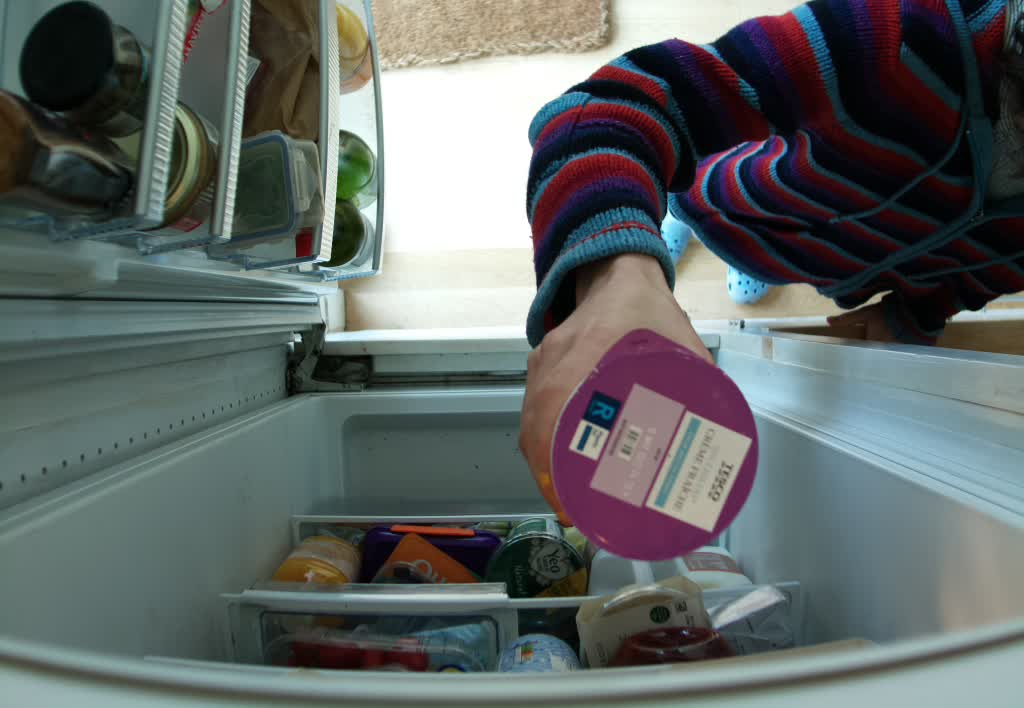cream: (547, 326, 759, 561)
